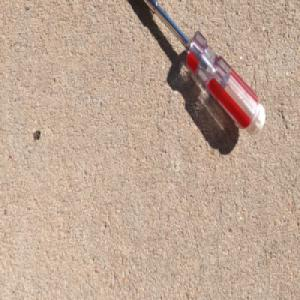Screwdriver: (139, 0, 266, 138)
